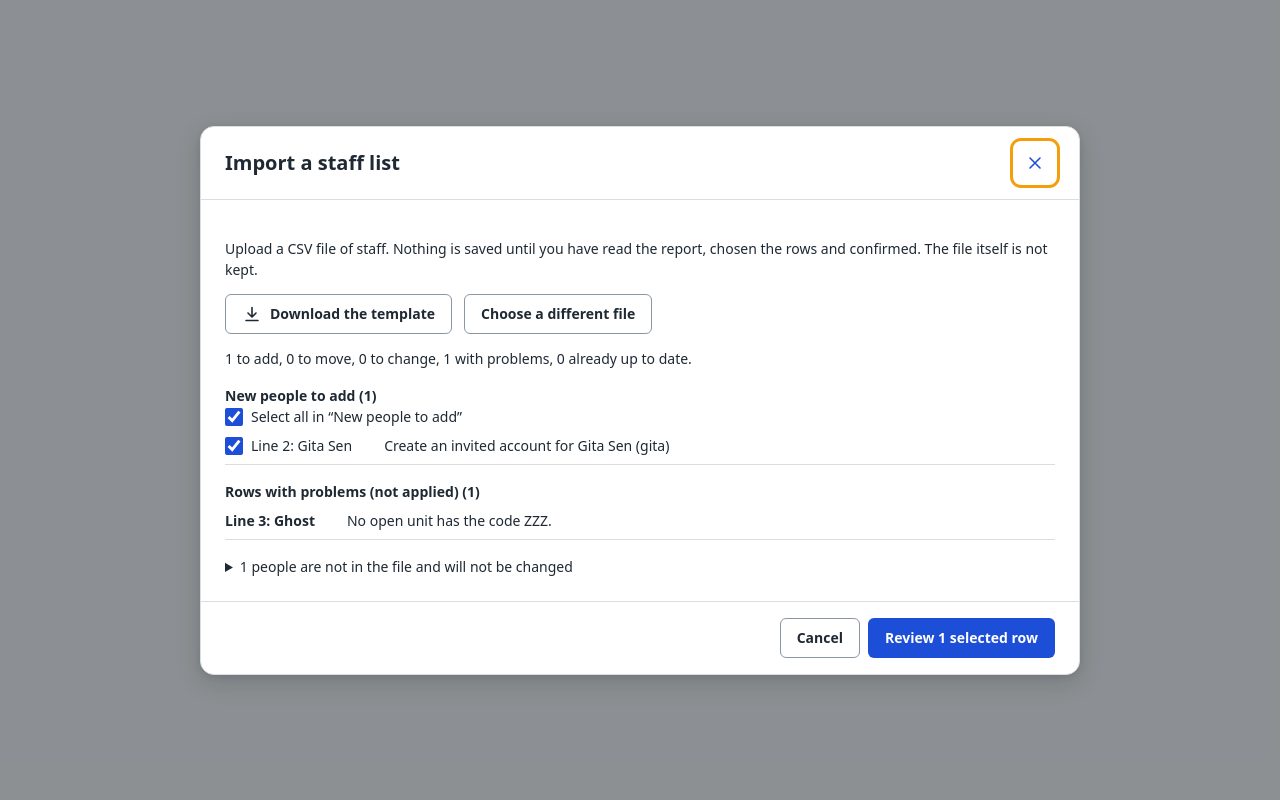
Scenario: select all per group clears and restores the rows
Earlier steps of the test are not shown.
Click the checkbox labelled "Select all in “New people to add”" at x=234, y=416, box [225,408,243,426]
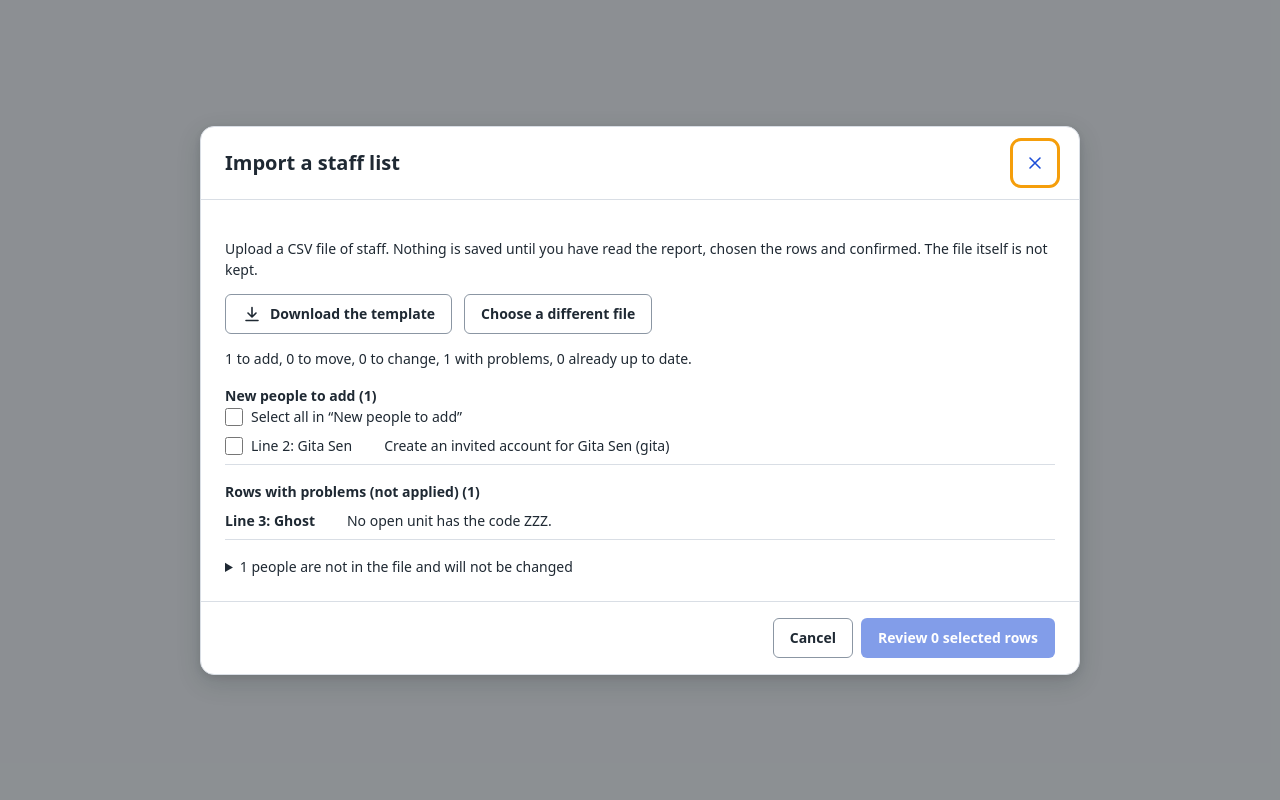
Check: the button "Review 0 selected rows" is disabled, box [861,618,1055,658]
Click the checkbox labelled "Select all in “New people to add”" at x=234, y=416, box [225,408,243,426]
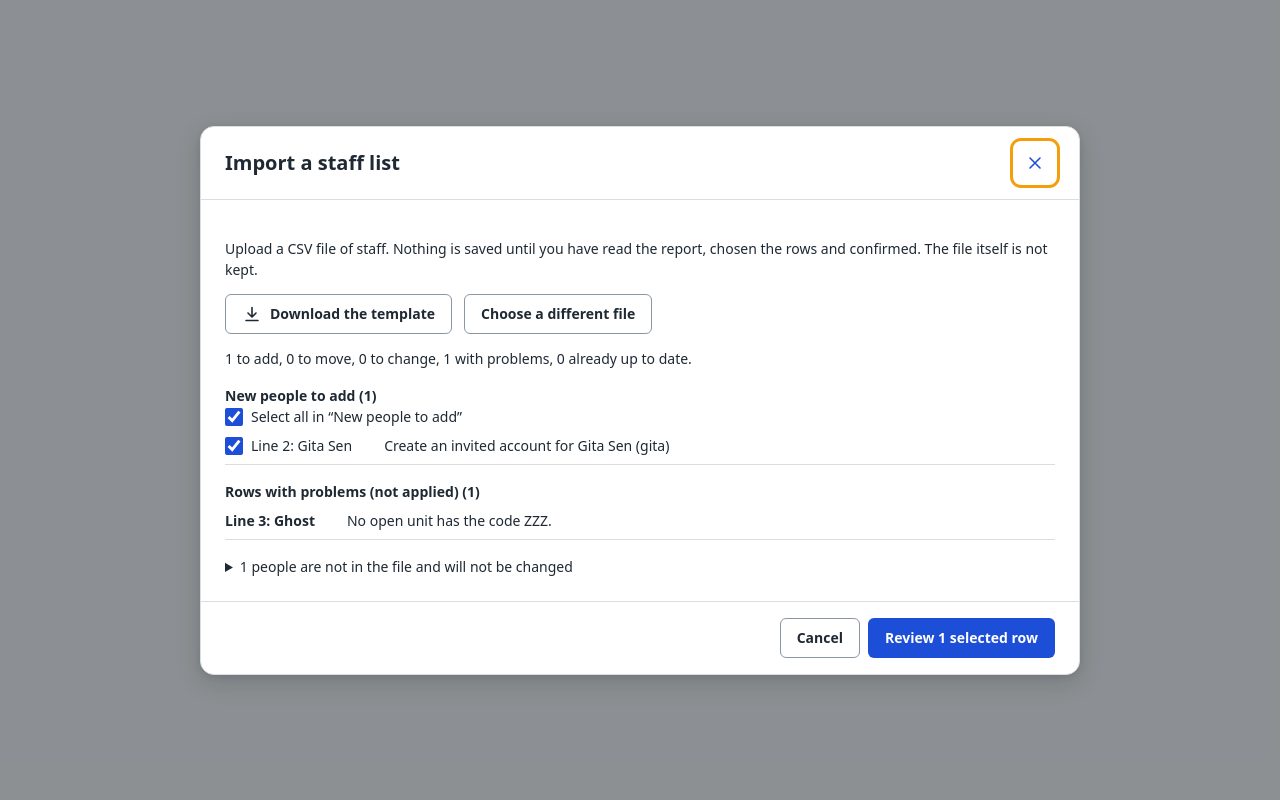
Check: the button "Review 1 selected row" is shown, box [868,618,1055,658]
